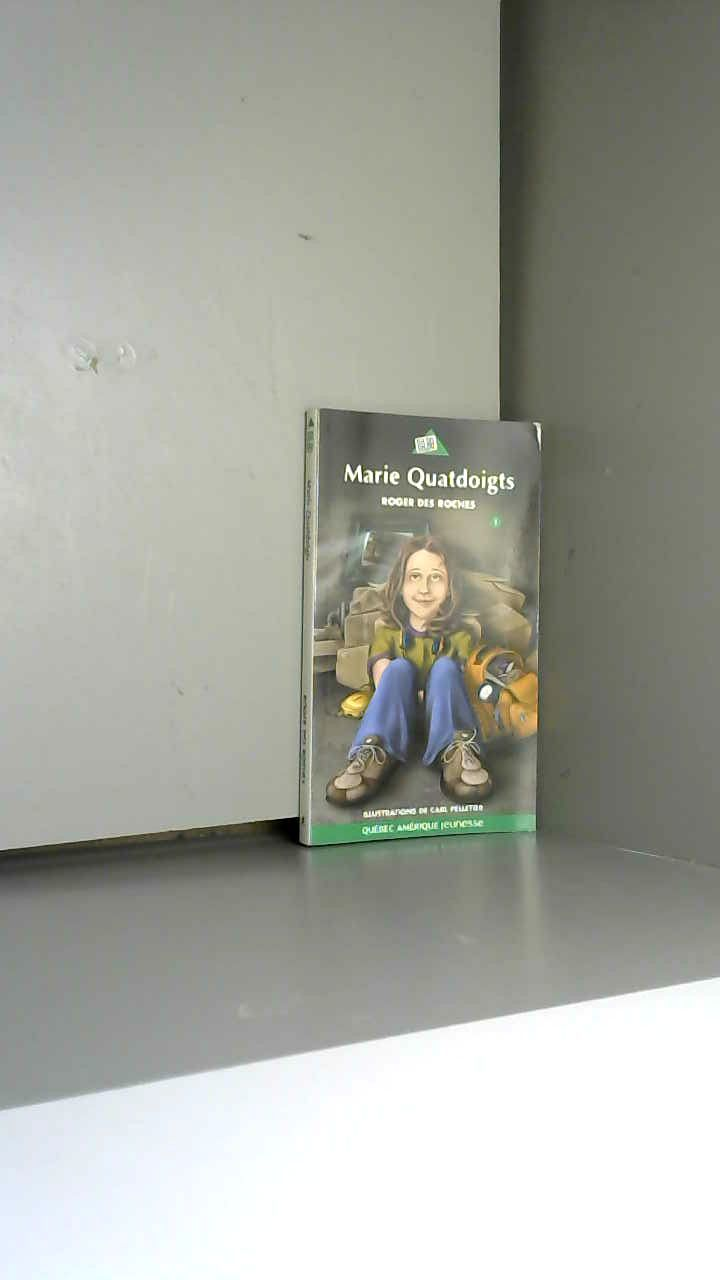book: (260, 369, 591, 883)
